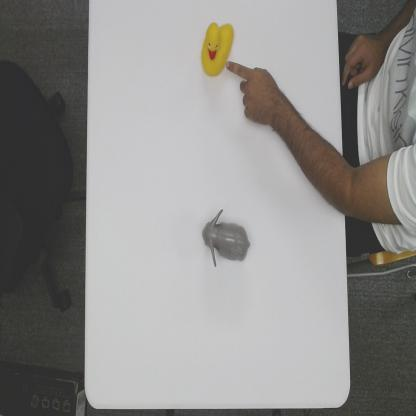Arm: (276, 90, 344, 224)
Duck: (199, 20, 235, 78)
Elephant: (203, 209, 250, 265)
Hand: (226, 58, 278, 126)
